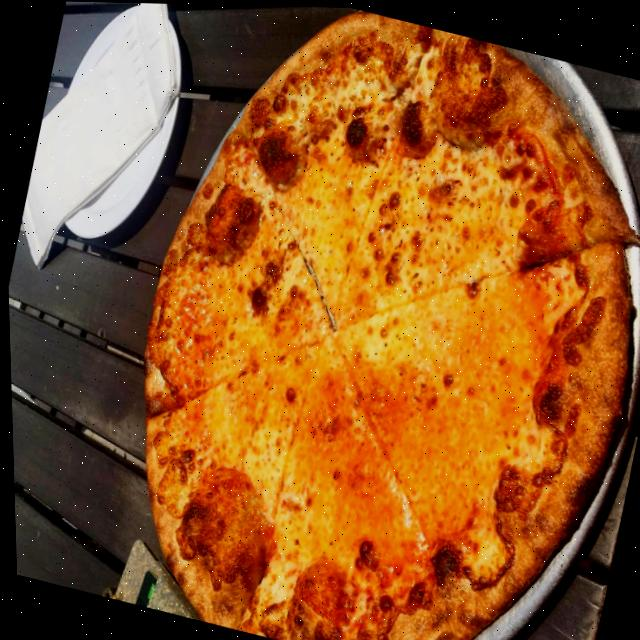pizza: (73, 1, 640, 640)
